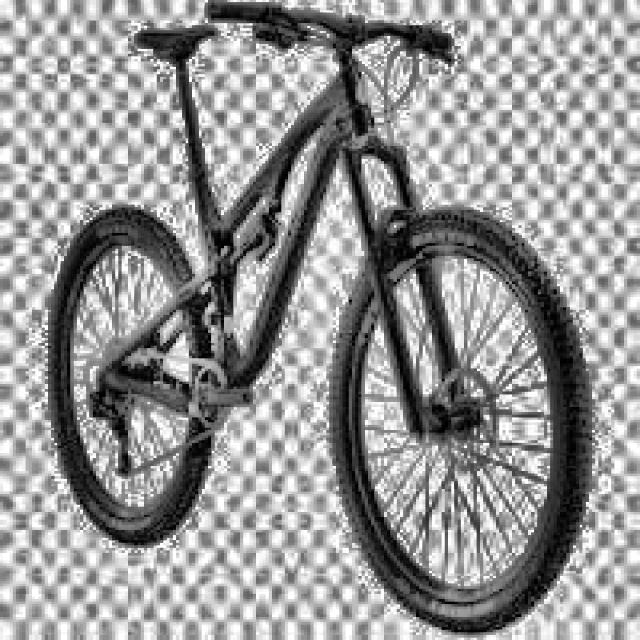bike: (44, 0, 624, 640)
